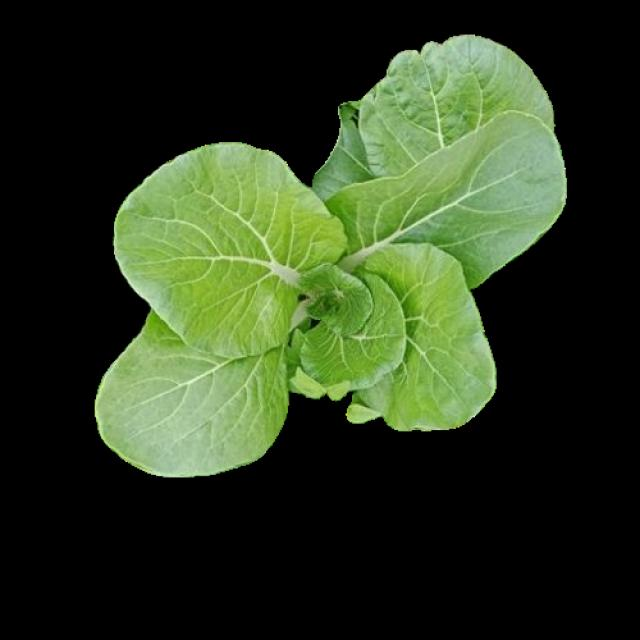healthy: (101, 51, 563, 492)
mature: (101, 47, 563, 488)
